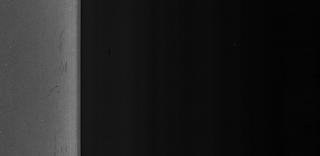water spot: (52, 29, 70, 87)
